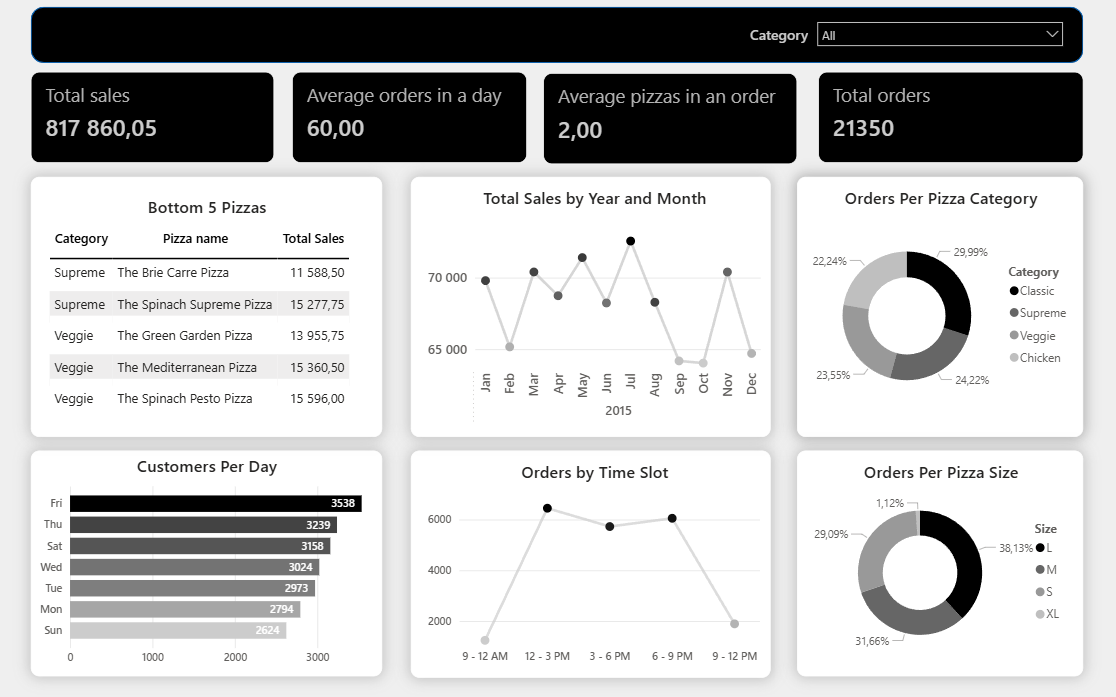

What the dashboard file says about the page in this screenshot:
{"tool":"powerbi","page":{"name":"Dashboard","canvas":[1280,800],"ordinal":0},"visuals":[{"type":"clusteredBarChart","title":"Customers Per Day","fields":{"Category":["Date Table.Day"],"Y":["All measures.Orders"]},"box":[38.8,516,400.5,258],"z":0},{"type":"lineChart","fields":{"Category":["Orders.Time Slot"],"Y":["All measures.Orders"]},"box":[471.3,516,410.5,259.4],"z":1000},{"type":"donutChart","title":"Orders Per Pizza Category","fields":{"Category":["Pizza types.Category"],"Y":["CountNonNull(Order details.Order Id)"]},"box":[912.6,203.8,326.4,296.5],"z":2000},{"type":"donutChart","title":"Orders Per Pizza Size","fields":{"Y":["CountNonNull(Order details.Order Id)"],"Category":["Pizzas.Size"]},"box":[912.6,516,326.4,258],"z":3000},{"type":"lineChart","fields":{"Category":["Date Table.Year","Date Table.Month"],"Y":["All measures.Total Sales"]},"box":[471.3,203.8,410.5,296.5],"z":4000},{"type":"multiRowCard","title":"Total sales","fields":{"Values":["All measures.Total Sales"]},"box":[38.8,84.1,278,104.1],"z":5000},{"type":"tableEx","title":"Bottom 5 Pizzas","fields":{"Values":["Pizza types.Category","Pizza types.Pizza name","All measures.Total Sales"]},"box":[38.8,203.8,400.5,296.5],"z":6000},{"type":"multiRowCard","title":"Average orders in a day","fields":{"Values":["All measures.Rounded up Avg orders in a day"]},"box":[336.7,84.1,268,104.1],"z":8000},{"type":"multiRowCard","title":"Average pizzas in an order","fields":{"Values":["All measures.Rounded down Avg Pizzas in an Order"]},"box":[623.2,85.5,289.4,104.1],"z":9000},{"type":"multiRowCard","title":"Total orders","fields":{"Values":["All measures.Orders"]},"box":[936.8,84.1,302.2,104.1],"z":10000},{"type":"shape","box":[38.5,10,1200.2,64.1],"z":11000},{"type":"slicer","title":"jfj","fields":{"Values":["Pizza types.Category"]},"box":[925.1,17.1,300.8,51.3],"z":12000},{"type":"shape","title":"Category","box":[624.3,29.9,300.8,25.7],"z":12001}]}

Visuals, with their boxes in screenshot pixels (x1, y1, x2, y2), scaled from the page's 1280x800 canvas onto the 1116x697 screenshot:
"Customers Per Day" clusteredBarChart: box(34, 450, 383, 674)
lineChart - Orders.Time Slot x All measures.Orders: box(411, 450, 769, 676)
"Orders Per Pizza Category" donutChart: box(796, 178, 1080, 436)
"Orders Per Pizza Size" donutChart: box(796, 450, 1080, 674)
lineChart - Date Table.Year x Date Table.Month: box(411, 178, 769, 436)
"Total sales" multiRowCard: box(34, 73, 276, 164)
"Bottom 5 Pizzas" tableEx: box(34, 178, 383, 436)
"Average orders in a day" multiRowCard: box(294, 73, 527, 164)
"Average pizzas in an order" multiRowCard: box(543, 74, 796, 165)
"Total orders" multiRowCard: box(817, 73, 1080, 164)
shape: box(34, 9, 1080, 65)
"jfj" slicer: box(807, 15, 1069, 60)
"Category" shape: box(544, 26, 807, 48)
